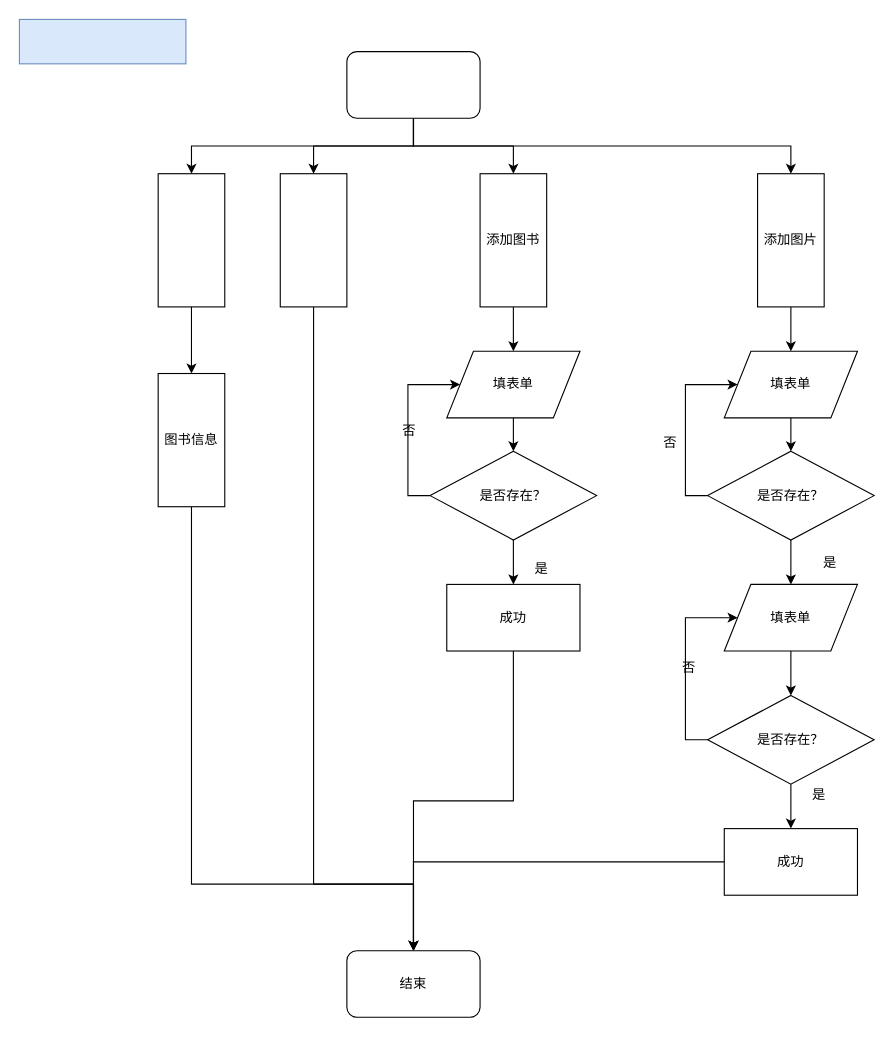
The diagram is 894 pixels wide and 1037 high, and some of its shapes have lost their labels. Each missing label, with the centre of its shape:
"图书列表" goes at [191,240].
"开始" goes at [413,84].
"管理员模型" goes at [102,41].
"账号安全" goes at [313,240].
